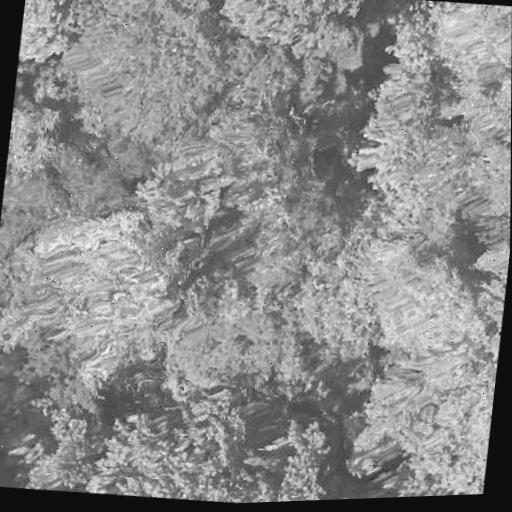tree-top: (0, 196, 195, 406), (255, 212, 458, 376), (47, 0, 240, 160), (149, 100, 339, 251), (165, 260, 324, 411), (77, 395, 272, 509), (349, 354, 496, 499), (352, 93, 484, 252), (224, 10, 373, 135), (360, 242, 491, 367), (0, 87, 83, 229), (215, 415, 346, 504), (199, 0, 373, 63), (409, 0, 512, 95), (2, 413, 101, 496), (462, 86, 511, 219), (468, 224, 510, 378), (17, 0, 83, 76), (357, 466, 484, 499)
